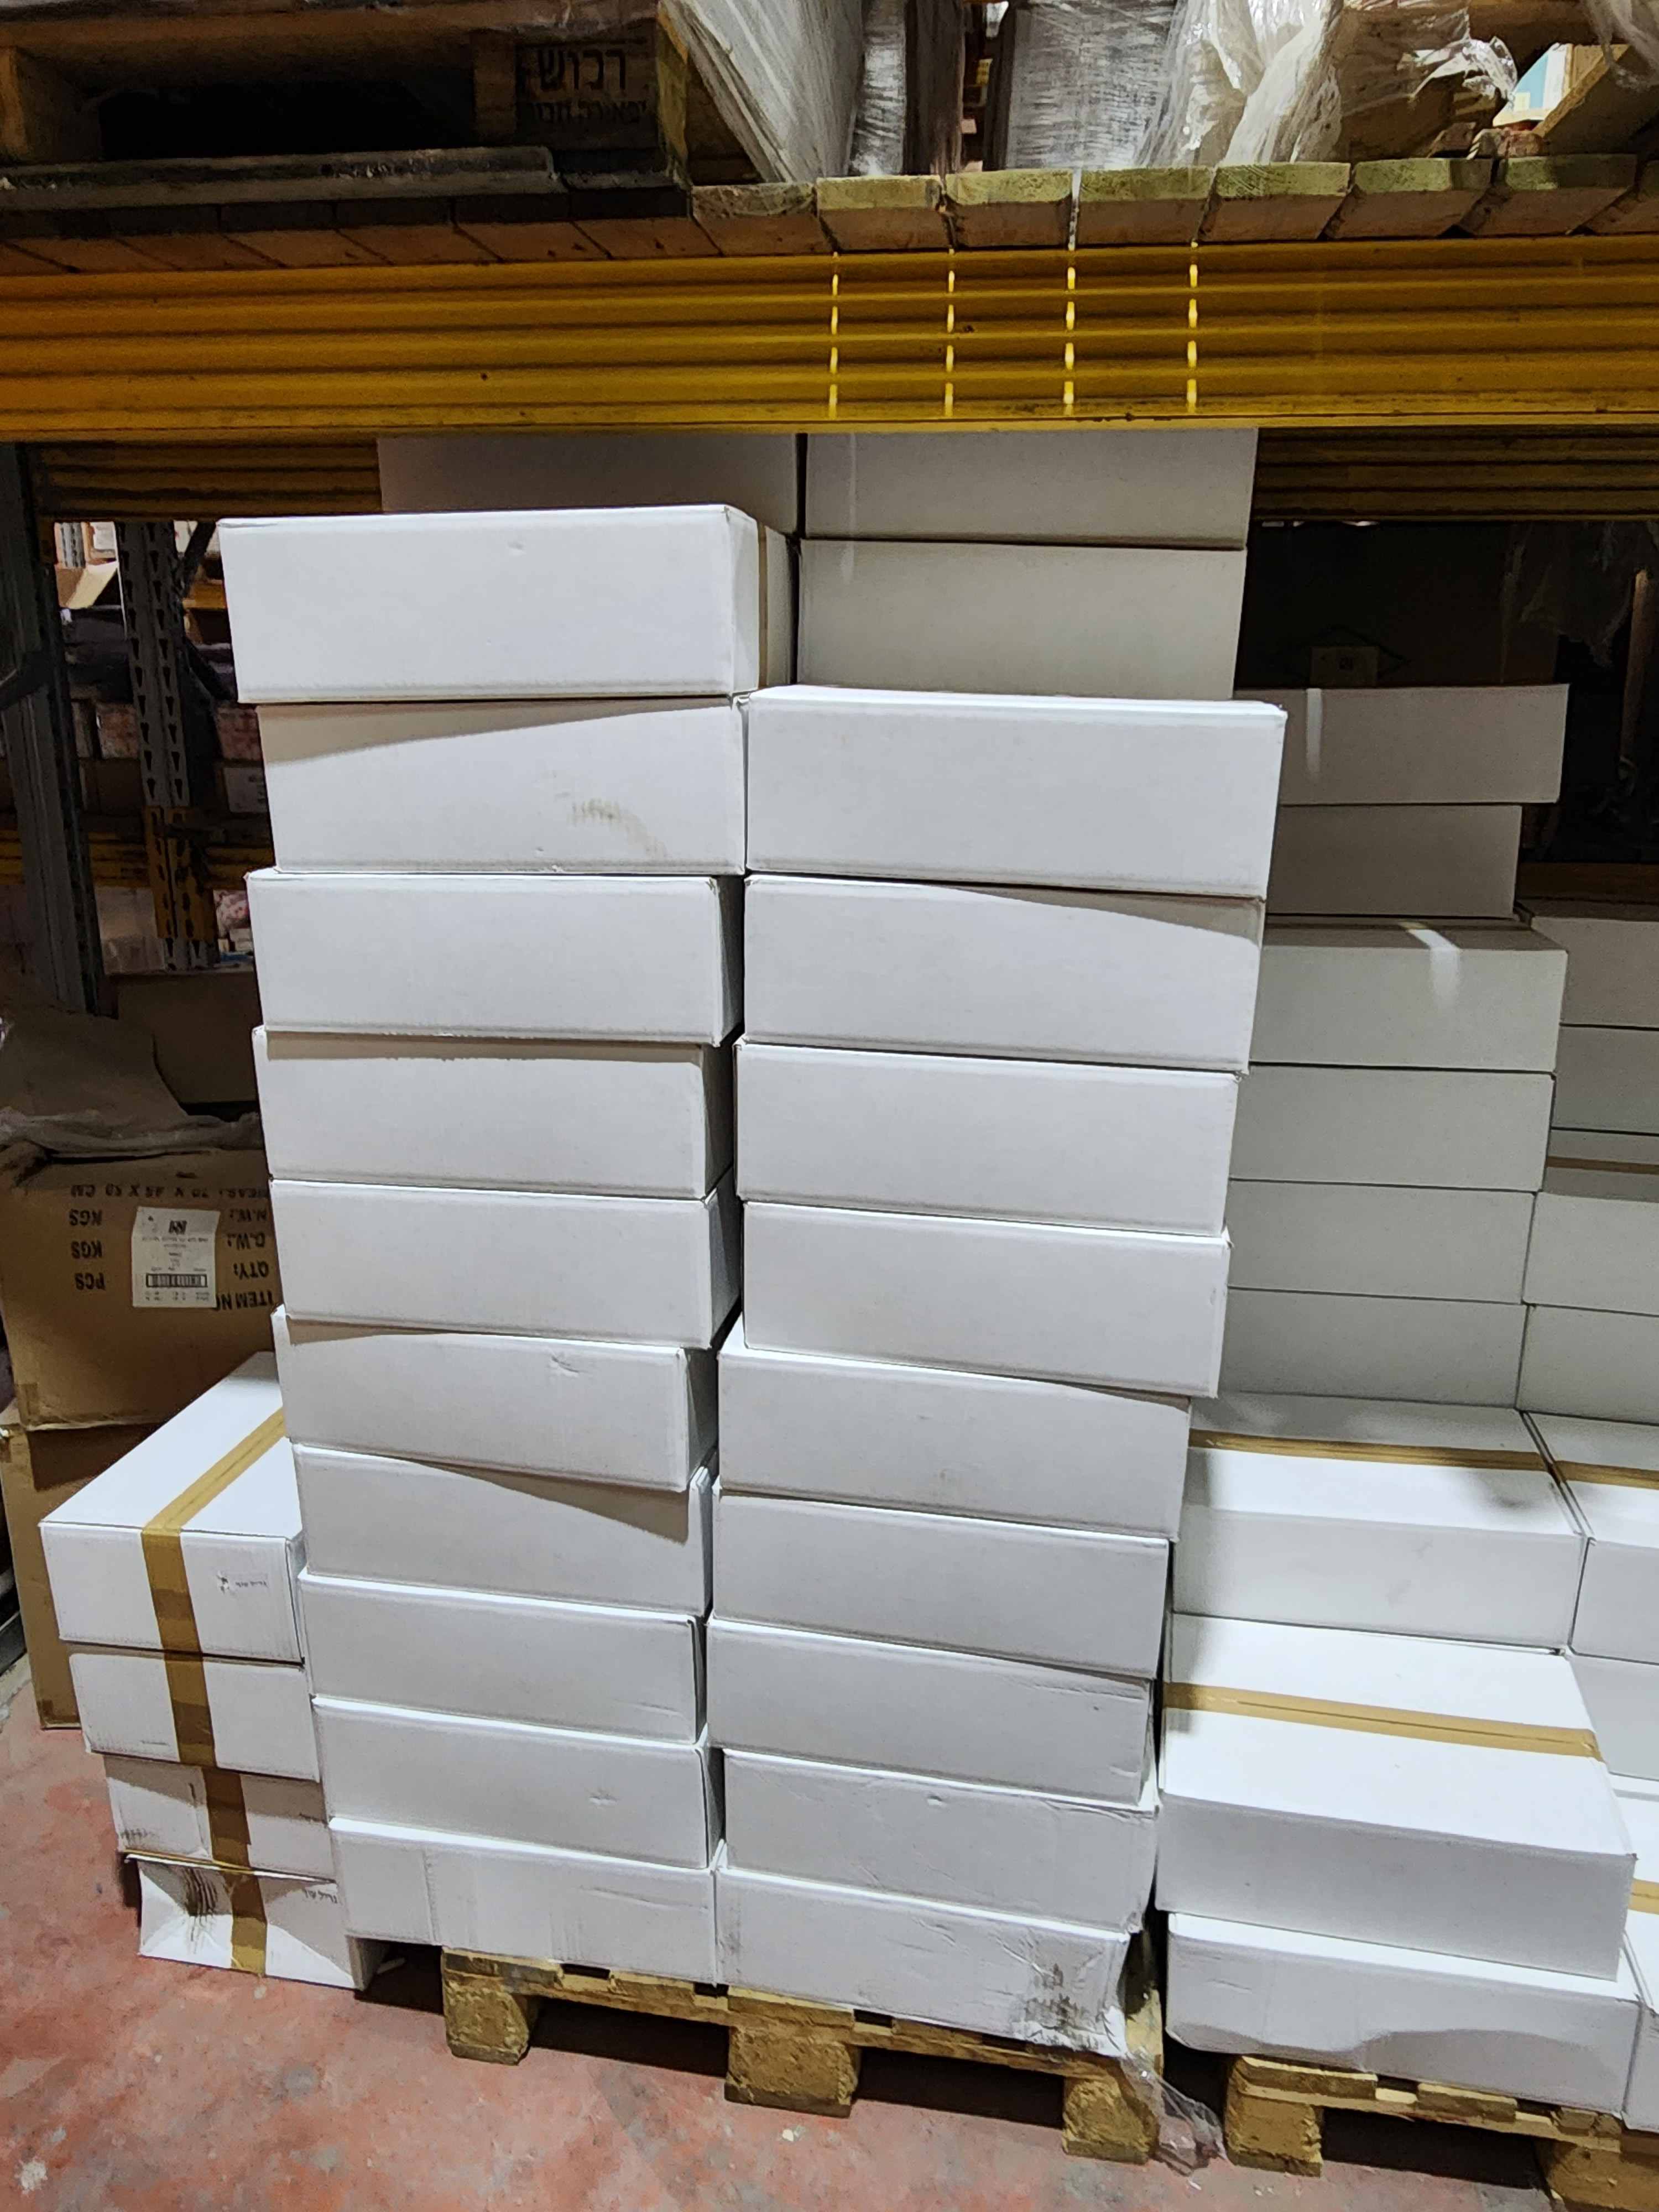box: (1147, 1578, 1642, 1968), (164, 475, 779, 716), (1131, 1886, 1654, 2167), (727, 833, 1309, 1083), (708, 676, 1305, 914), (695, 1181, 1274, 1414), (1230, 1024, 1556, 1435), (186, 676, 769, 900), (701, 1021, 1270, 1249), (178, 1001, 760, 1216), (674, 1313, 1218, 1541), (692, 1470, 1211, 1702), (220, 1287, 730, 1522), (223, 859, 769, 1076), (206, 1162, 749, 1372), (685, 1717, 1188, 1935), (235, 1428, 723, 1634), (291, 1789, 718, 2020), (239, 1561, 734, 1759), (704, 1609, 1173, 1818), (692, 1867, 1166, 2073), (786, 502, 1283, 697), (298, 1665, 718, 1883)
